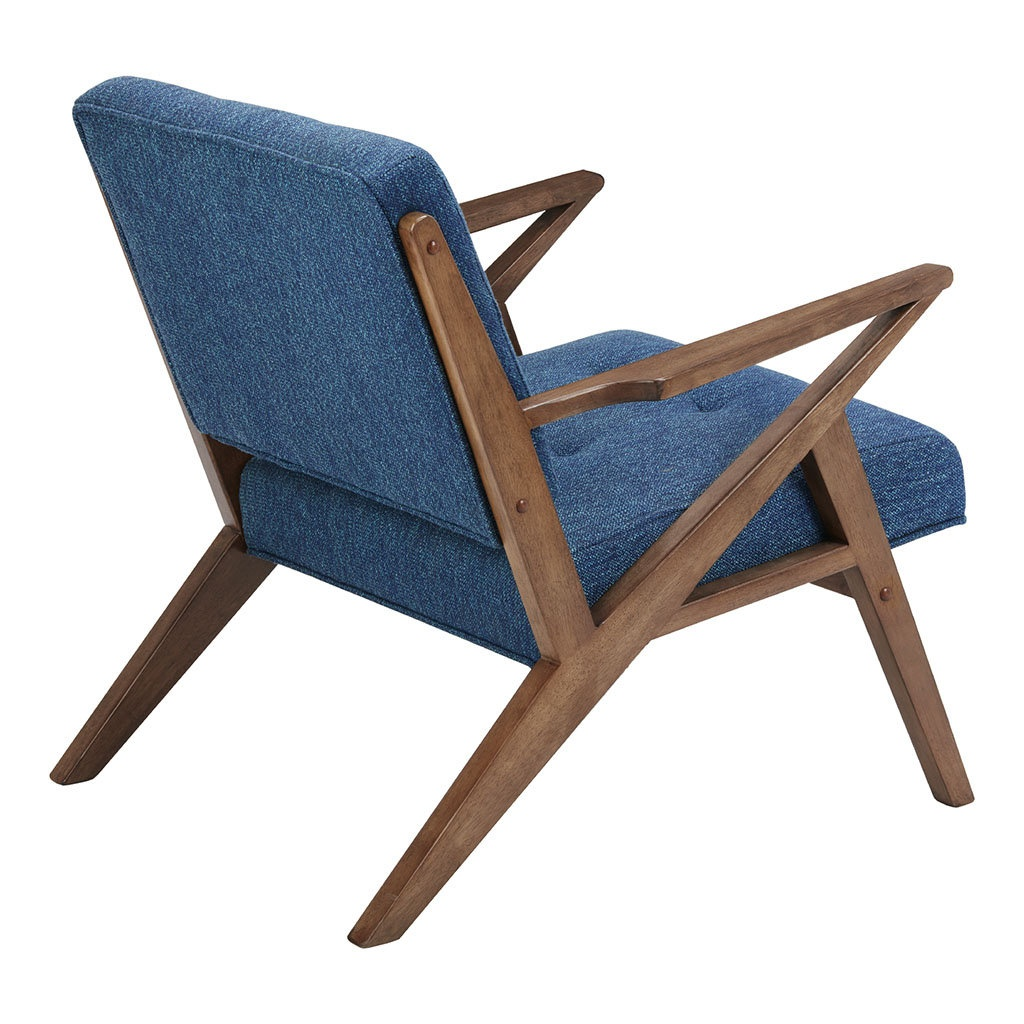obstacle: (52, 78, 971, 946)
